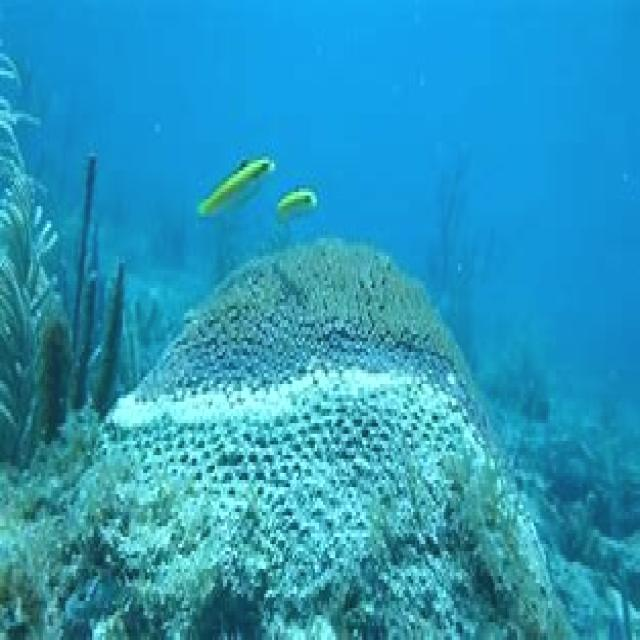Coral: (97, 238, 579, 640)
